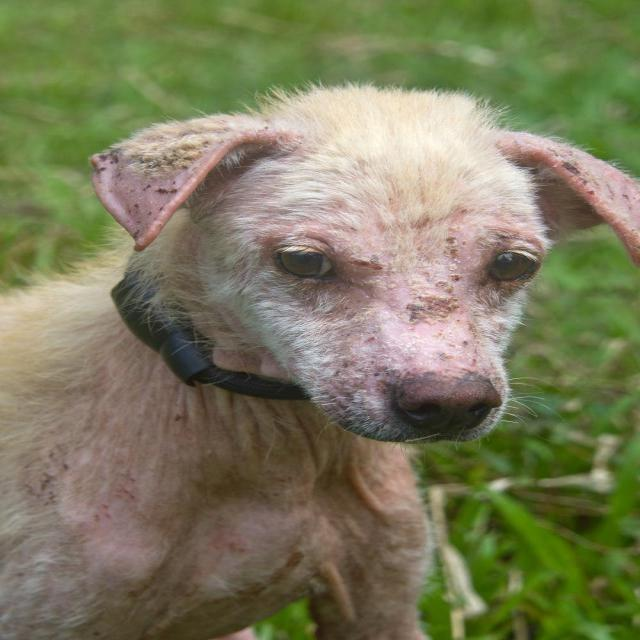mange: (125, 132, 202, 197), (408, 275, 456, 335)
